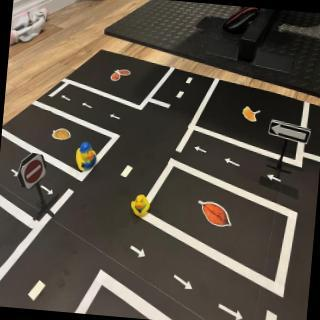duck_regular: (131, 193, 153, 222)
duck_specialty: (76, 141, 102, 176)
road_oneway: (217, 303, 247, 320), (173, 275, 196, 294), (129, 246, 149, 262), (223, 156, 244, 170), (41, 185, 57, 200), (193, 145, 209, 157), (10, 167, 23, 180), (82, 101, 95, 112), (110, 113, 124, 123), (60, 94, 73, 104)
sign_noentry: (20, 152, 51, 194)
sign_oneway_left: (269, 120, 313, 146)
